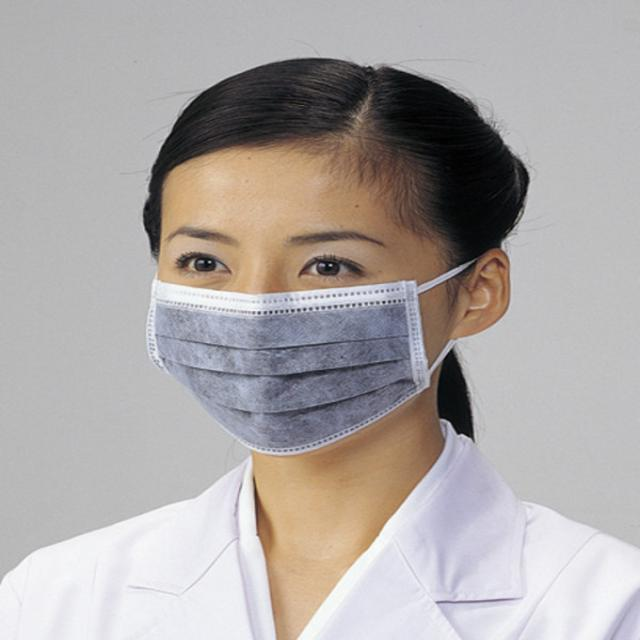mask: (154, 143, 437, 454)
